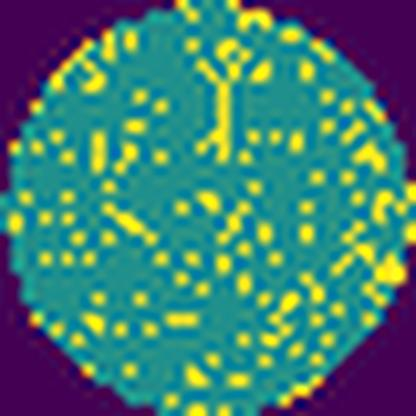Scratch: (194, 38, 254, 167), (100, 202, 160, 250)
